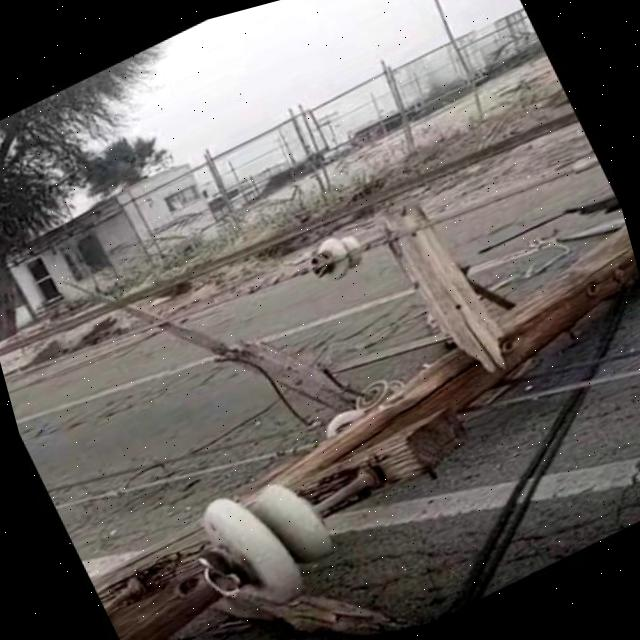Broken Pole: (96, 199, 640, 640)
